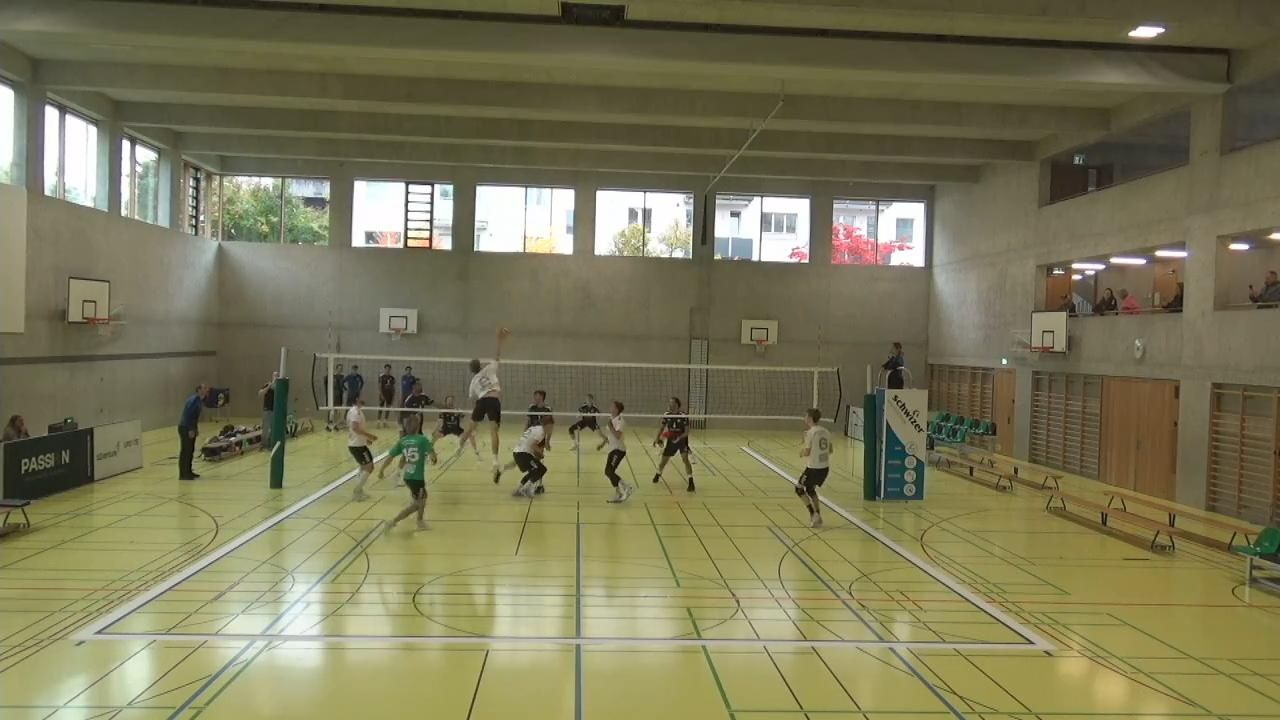Attack: (443, 314, 505, 485)
Player: (384, 419, 434, 534), (795, 408, 835, 527), (651, 396, 695, 492), (346, 387, 381, 500), (509, 407, 549, 499), (599, 401, 632, 502), (399, 376, 432, 445), (434, 399, 469, 462), (566, 394, 600, 455), (527, 387, 554, 443), (603, 398, 631, 452)
ball: (491, 322, 511, 341)
